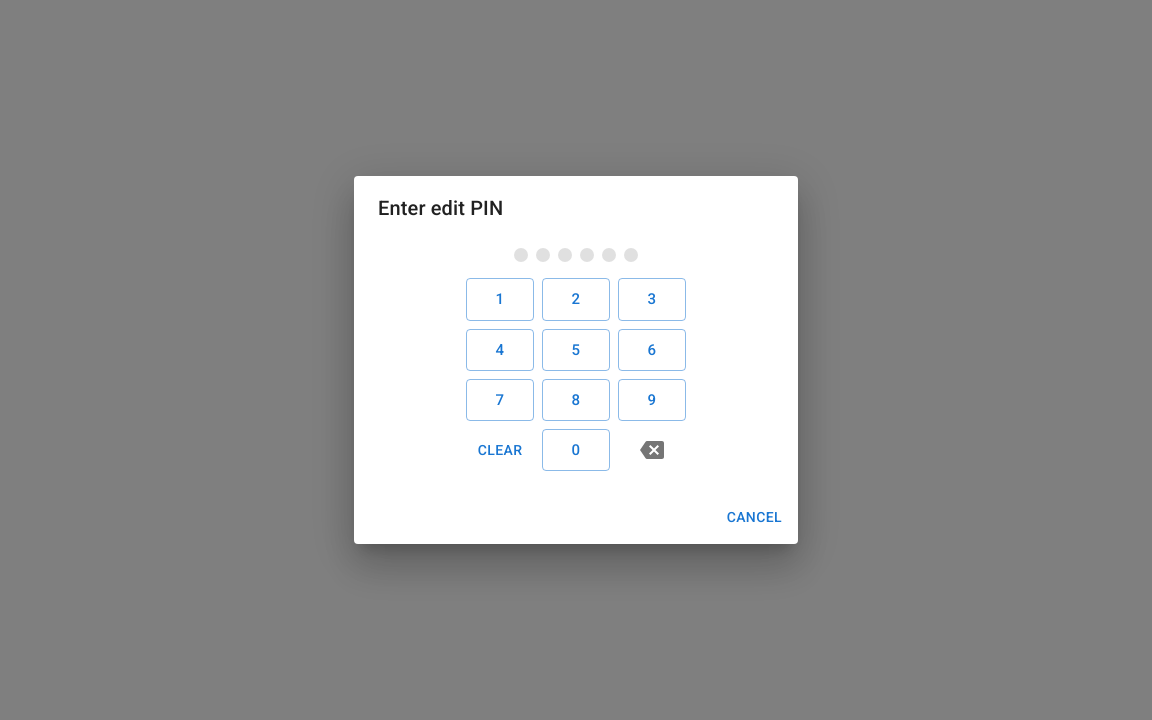
Test: PinKeypadDialog › shows an inline error and clears the pin on a wrong PIN
This screenshot has width=1152, height=720.
Click the button "0": (576, 450) [542,429,610,471]
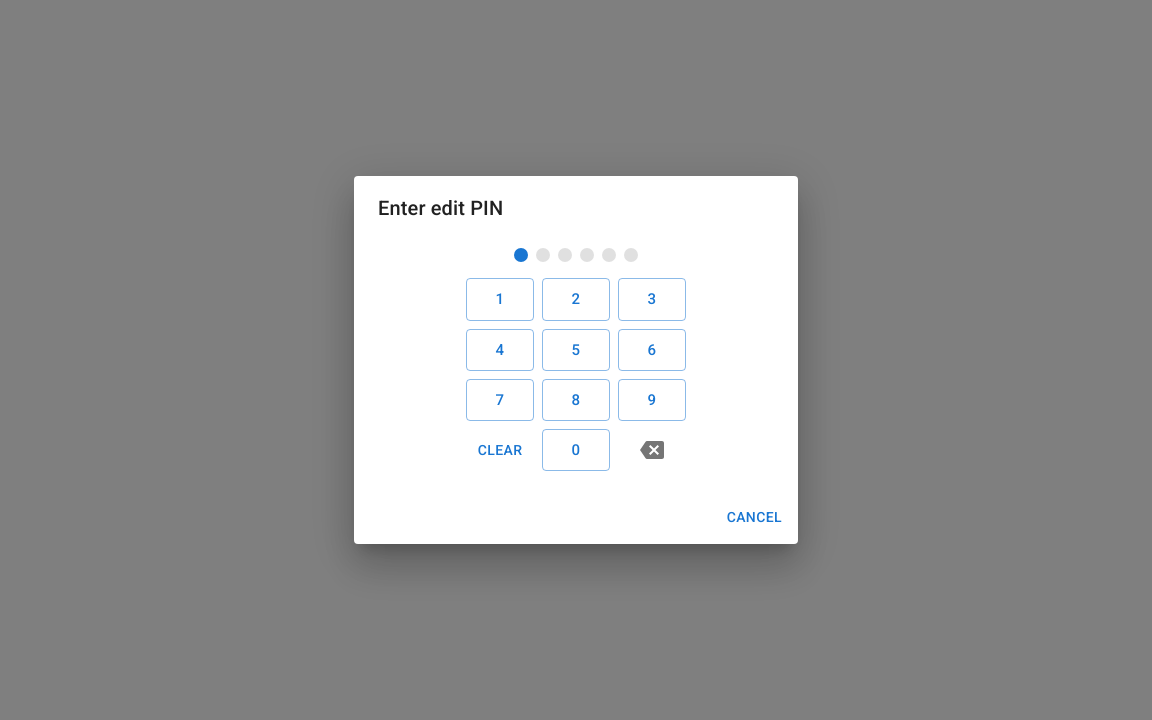
Click the button "0": (576, 450) [542,429,610,471]
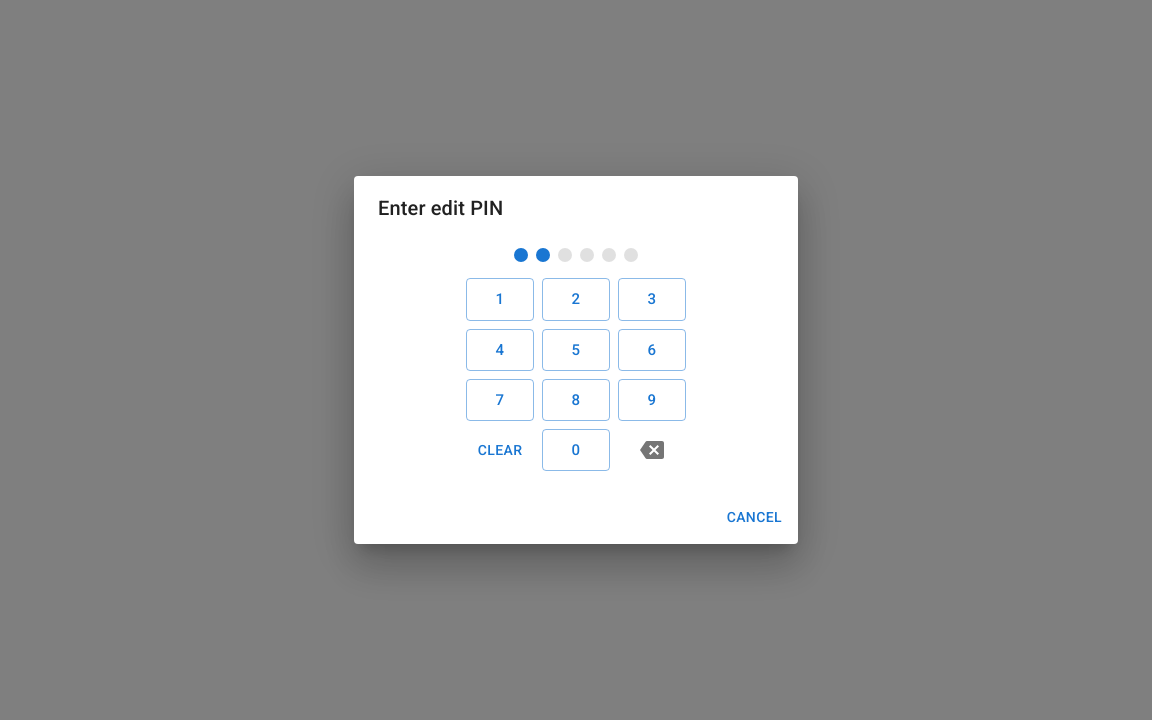
Click the button "0": (576, 450) [542,429,610,471]
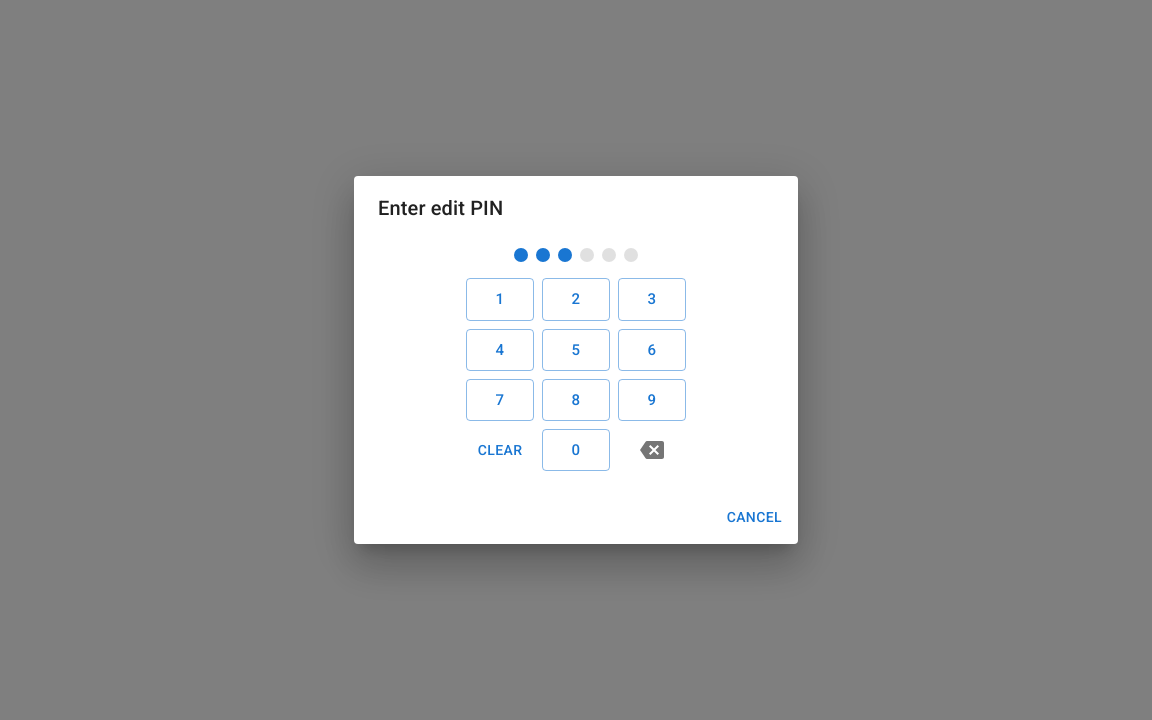
Click the button "0": (576, 450) [542,429,610,471]
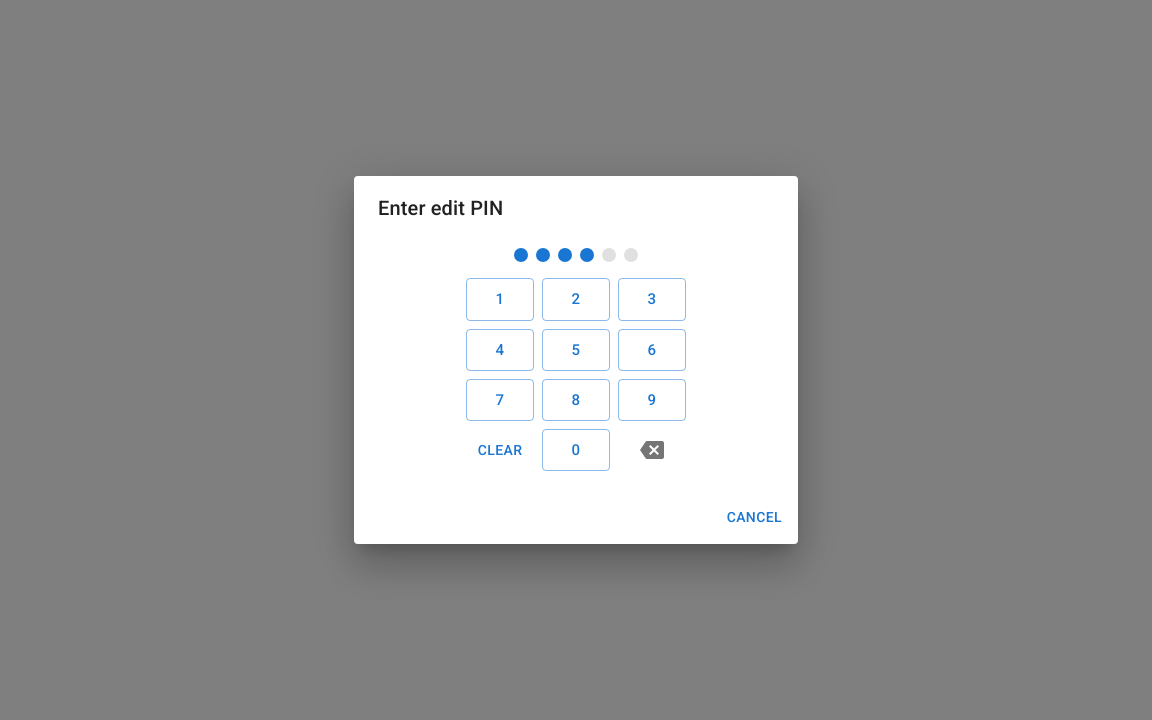
Click the button "0": (576, 450) [542,429,610,471]
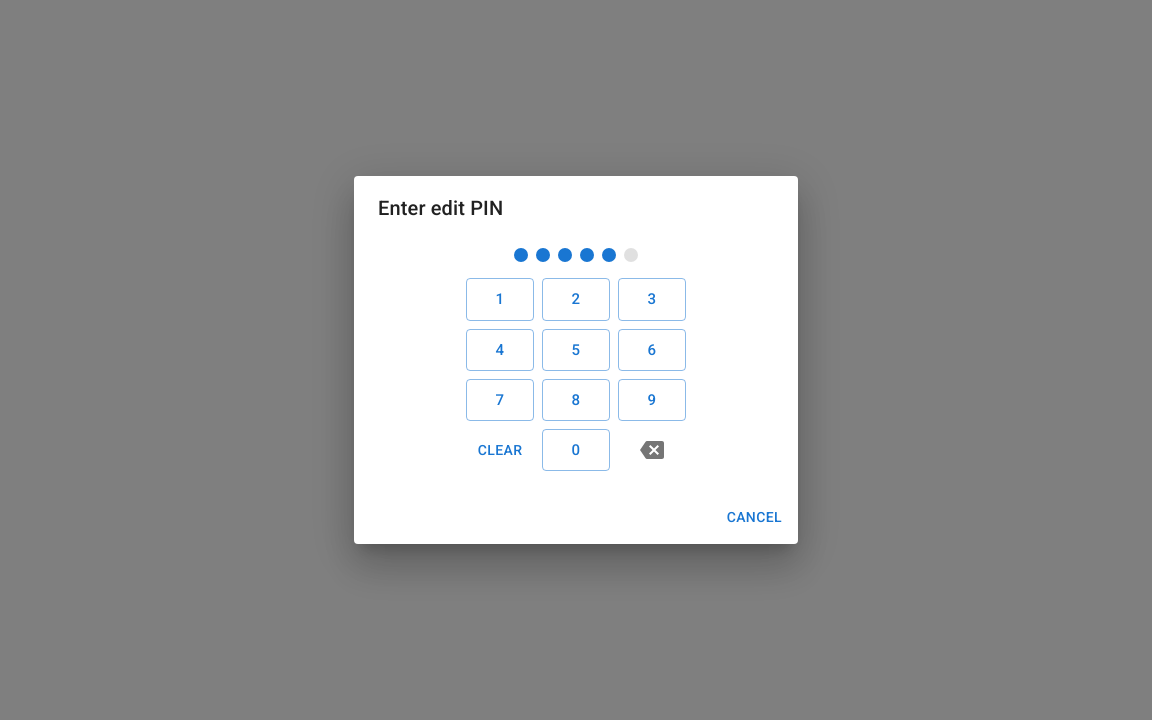
Click the button "0": (576, 450) [542,429,610,471]
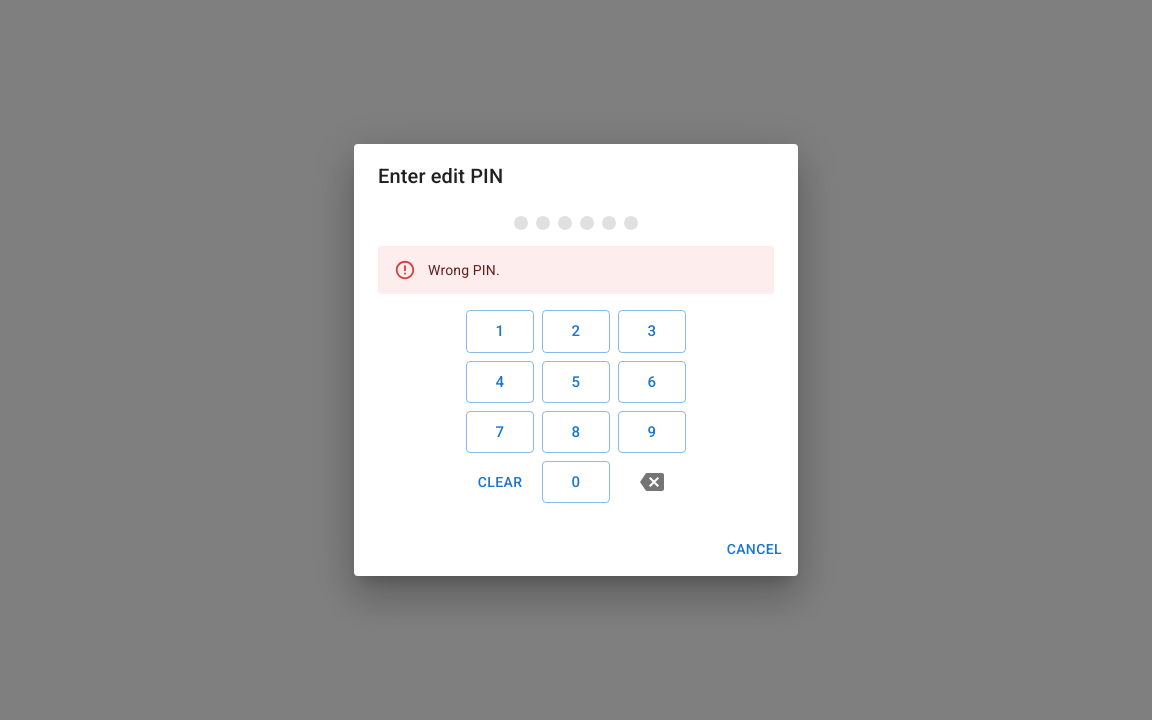
Expected: the text "Wrong PIN." is shown, [428,262,500,278]
